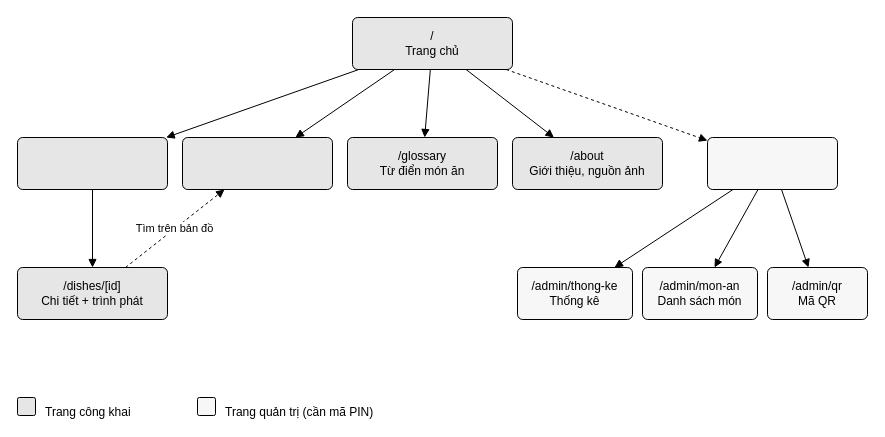
Image size: 885x437. Some labels were removed from this diagram. The centre of each missing label's shape, as x and y in pixels:
"/admin Tổng quan" goes at point 772,163.
"/dishes Danh sách món" goes at point 92,163.
"/map Bản đồ ẩm thực" goes at point 257,163.
